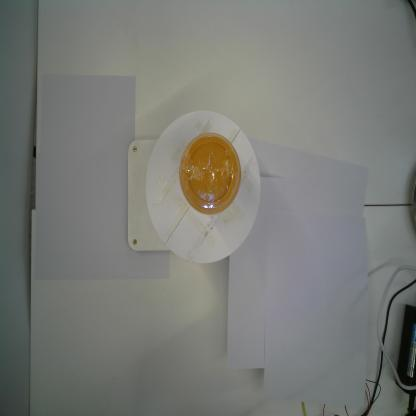Instant Drink: (178, 132, 242, 216)
